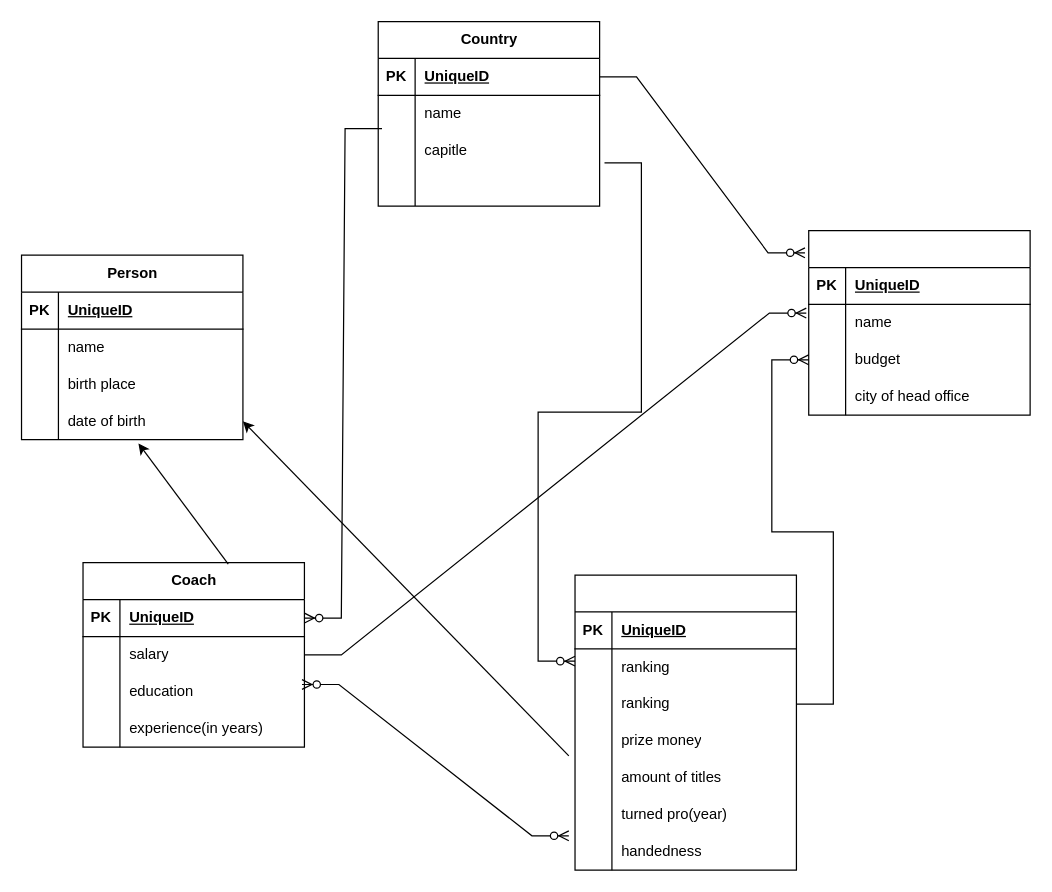
The diagram is 1052 pixels wide and 892 high, and some of its shapes have lost their labels. Here are the shapes that lost their labels. From the top down, the box of each, then its label:
(807, 229, 1030, 415): Sponsor
(574, 574, 796, 870): Player
